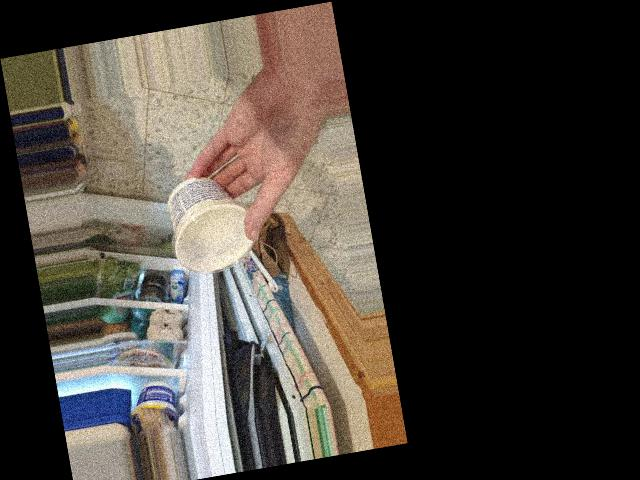cotage: (168, 173, 259, 265)
